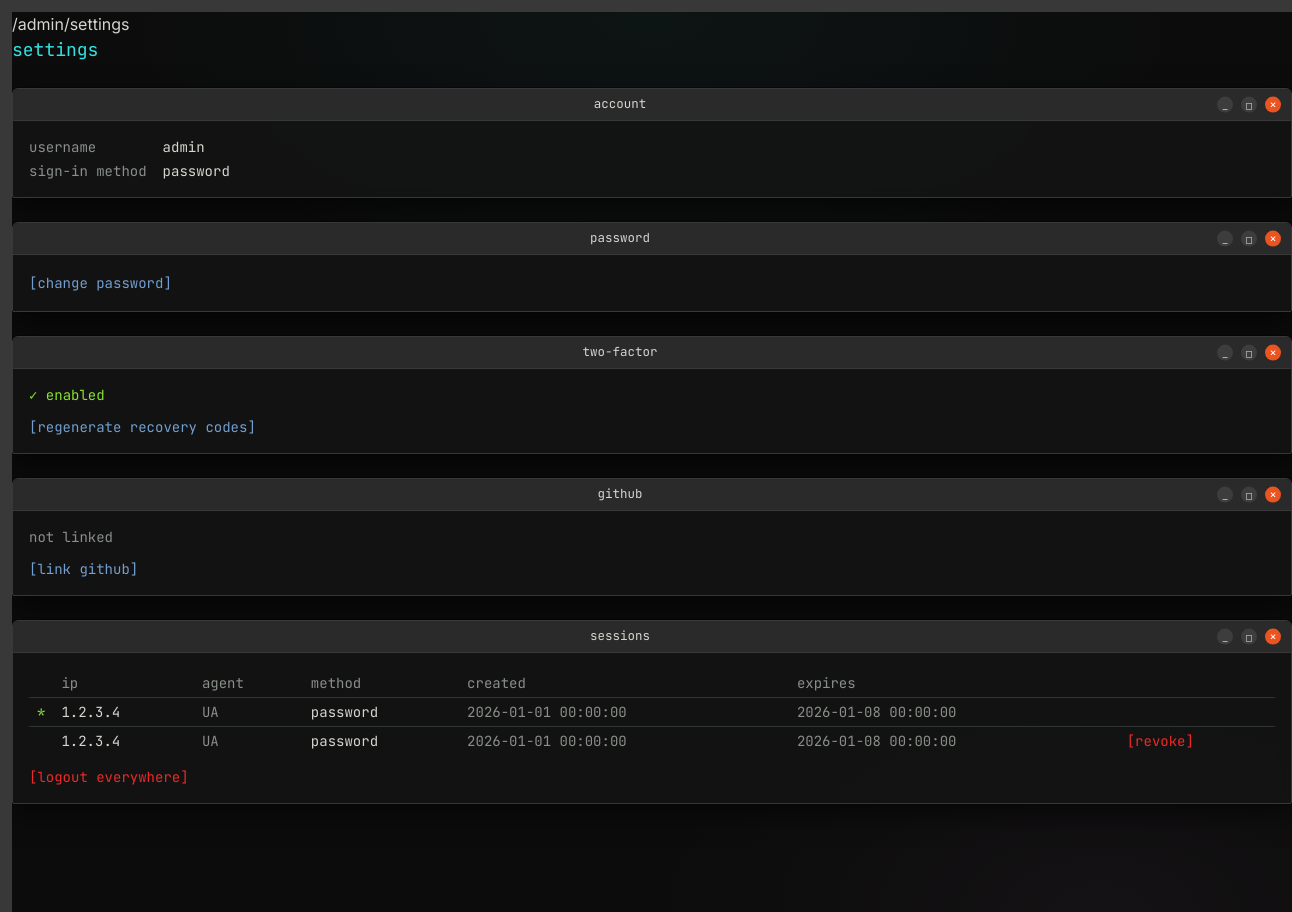
regenerates recovery codes after a TOTP code
Click the button "[regenerate recovery codes]".
click(142, 427)  # box [29, 417, 256, 437]
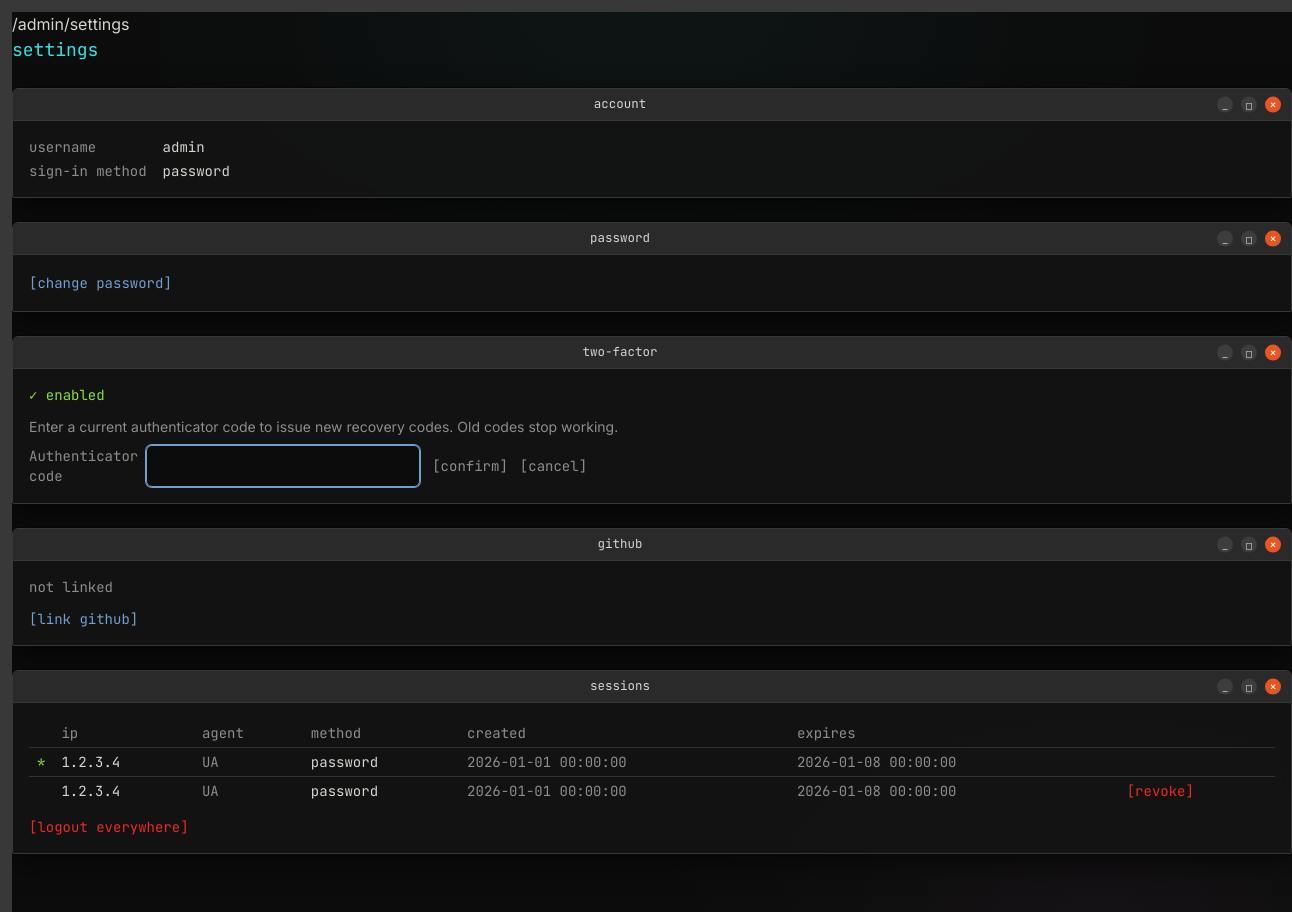
Type "123456" into the field labelled "Authenticator code".
click(283, 466); type("123456")  # box [146, 445, 420, 487]
Then press Enter
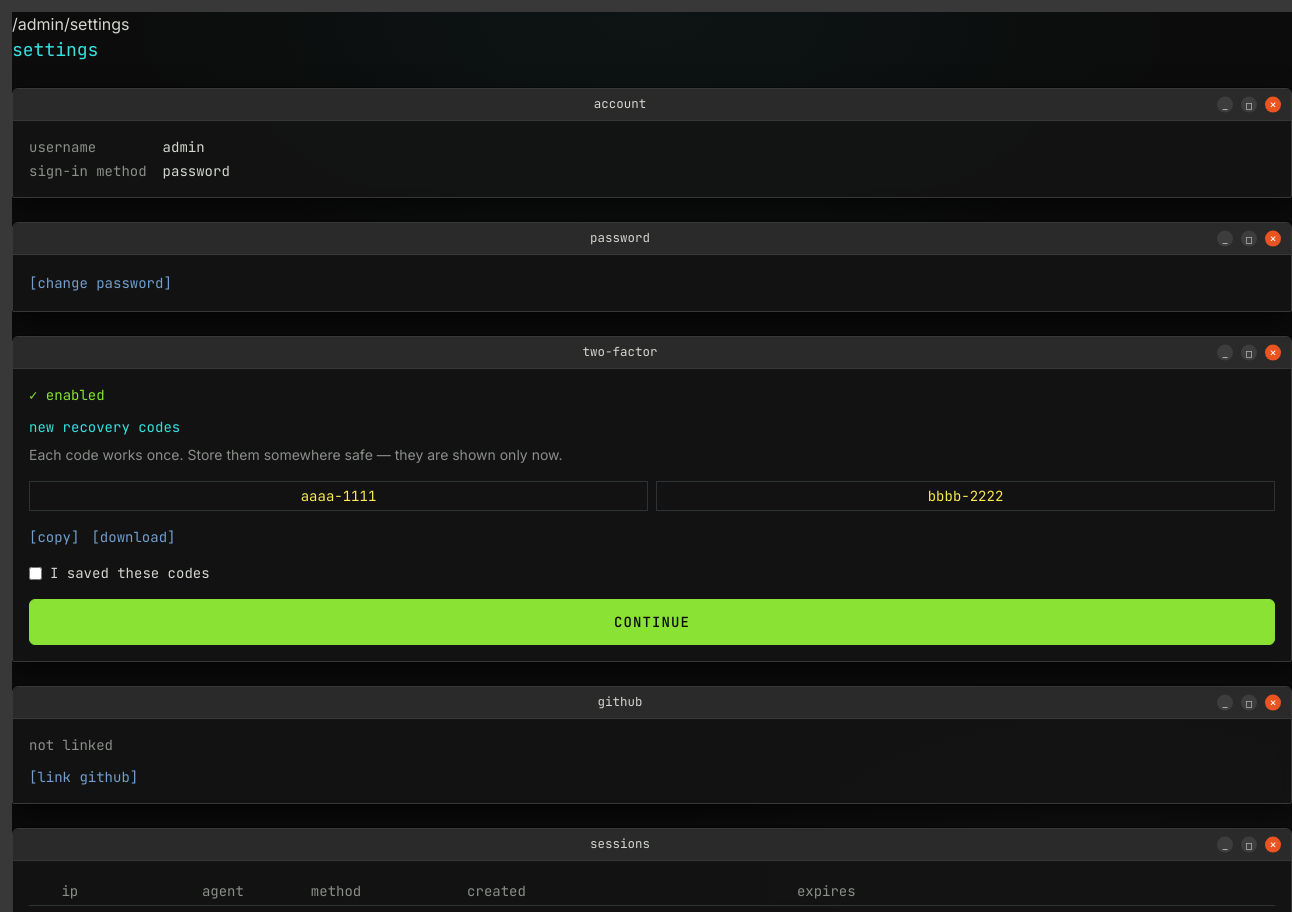
Expected: the text "aaaa-1111" is shown, [29, 481, 648, 511]
